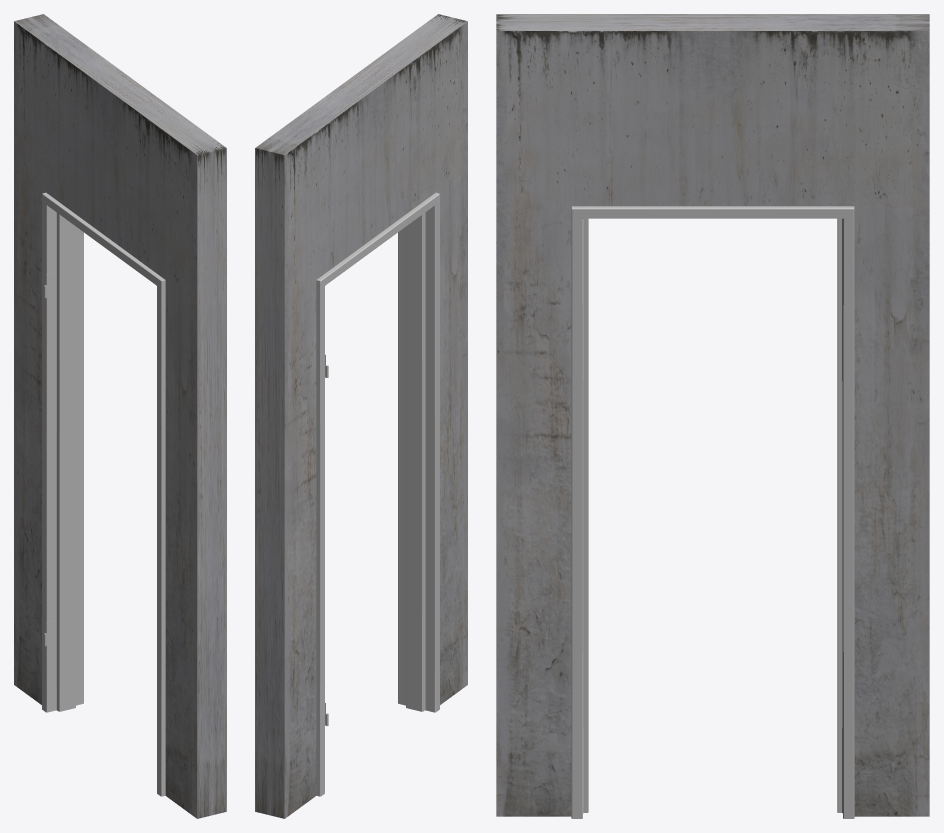
Rendered from SM_Wall_Door_300_01.fbx.
The picture shows the model from 3 angles, left to right: view 1: azimuth 30°, elevation 25°; view 2: azimuth 150°, elevation 25°; view 3: azimuth 270°, elevation 25°; orthographic projection. The views are drawn at different scales.
Visible parts, largest first — view 1: SM_Wall_Door_300_01_LOD0; view 2: SM_Wall_Door_300_01_LOD0; view 3: SM_Wall_Door_300_01_LOD0.
Part boxes in pixels (x1,y1,x2,y2): SM_Wall_Door_300_01_LOD0: (14,14,226,818); SM_Wall_Door_300_01_LOD0: (255,14,467,818); SM_Wall_Door_300_01_LOD0: (496,14,929,818).
Size of the model in its own units: 19.2 by 150 by 300.
